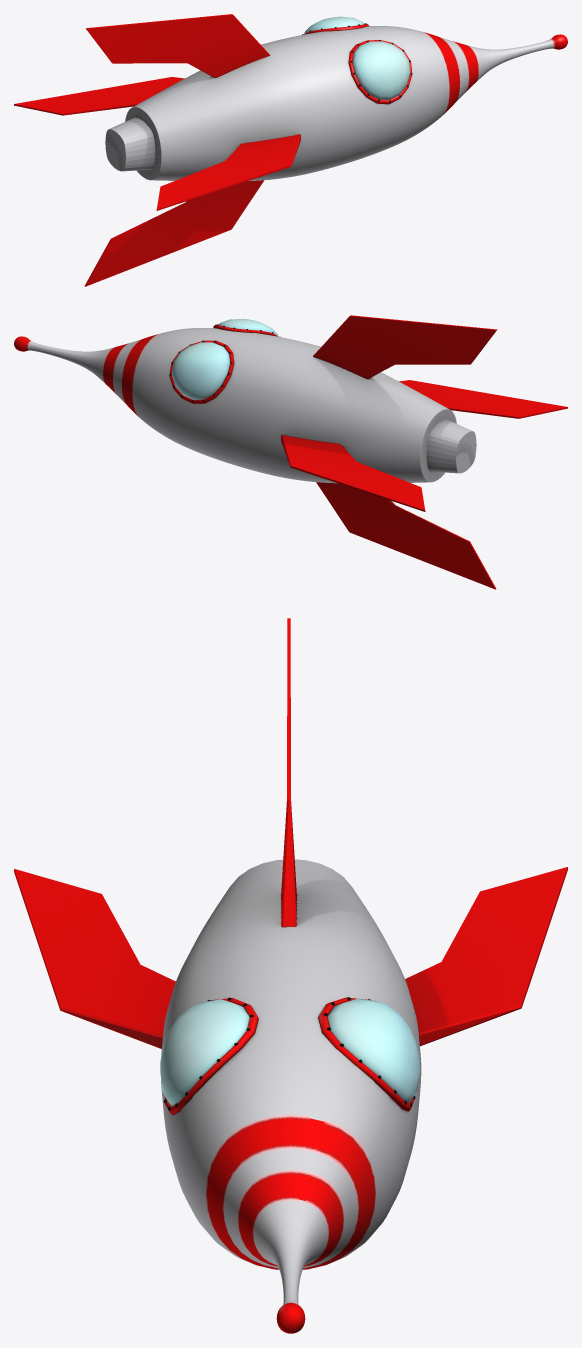
The model's file is Rocket.fbx.
3 views of the same model, one above another, from view 1: azimuth 30°, elevation 25°; view 2: azimuth 150°, elevation 25°; view 3: azimuth 270°, elevation 25° (orthographic). The views are drawn at different scales.
Parts seen in each view (by area): view 1: Object001; view 2: Object001; view 3: Object001.
Part boxes in pixels (x1,y1,x2,y2): Object001: (14, 14, 567, 286); Object001: (14, 315, 567, 589); Object001: (14, 618, 567, 1333).
Size of the model in its own units: 81.53 by 41.86 by 41.86.
Materials: 1 (1 with a texture image).
